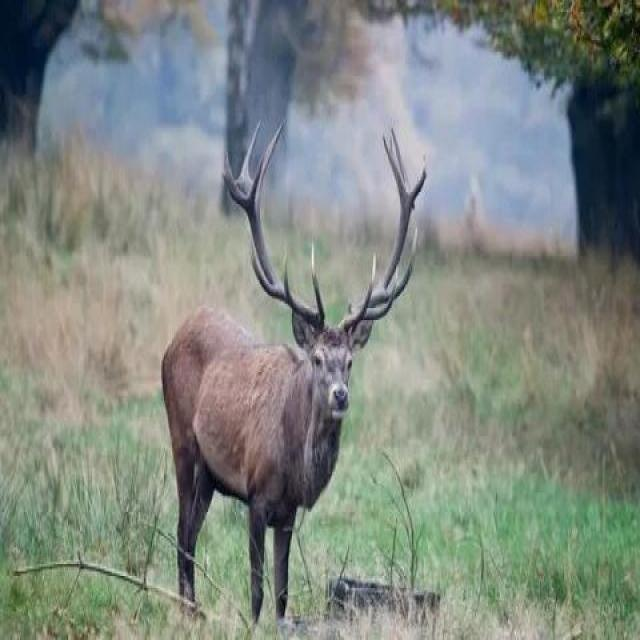deer: (160, 93, 440, 607)
